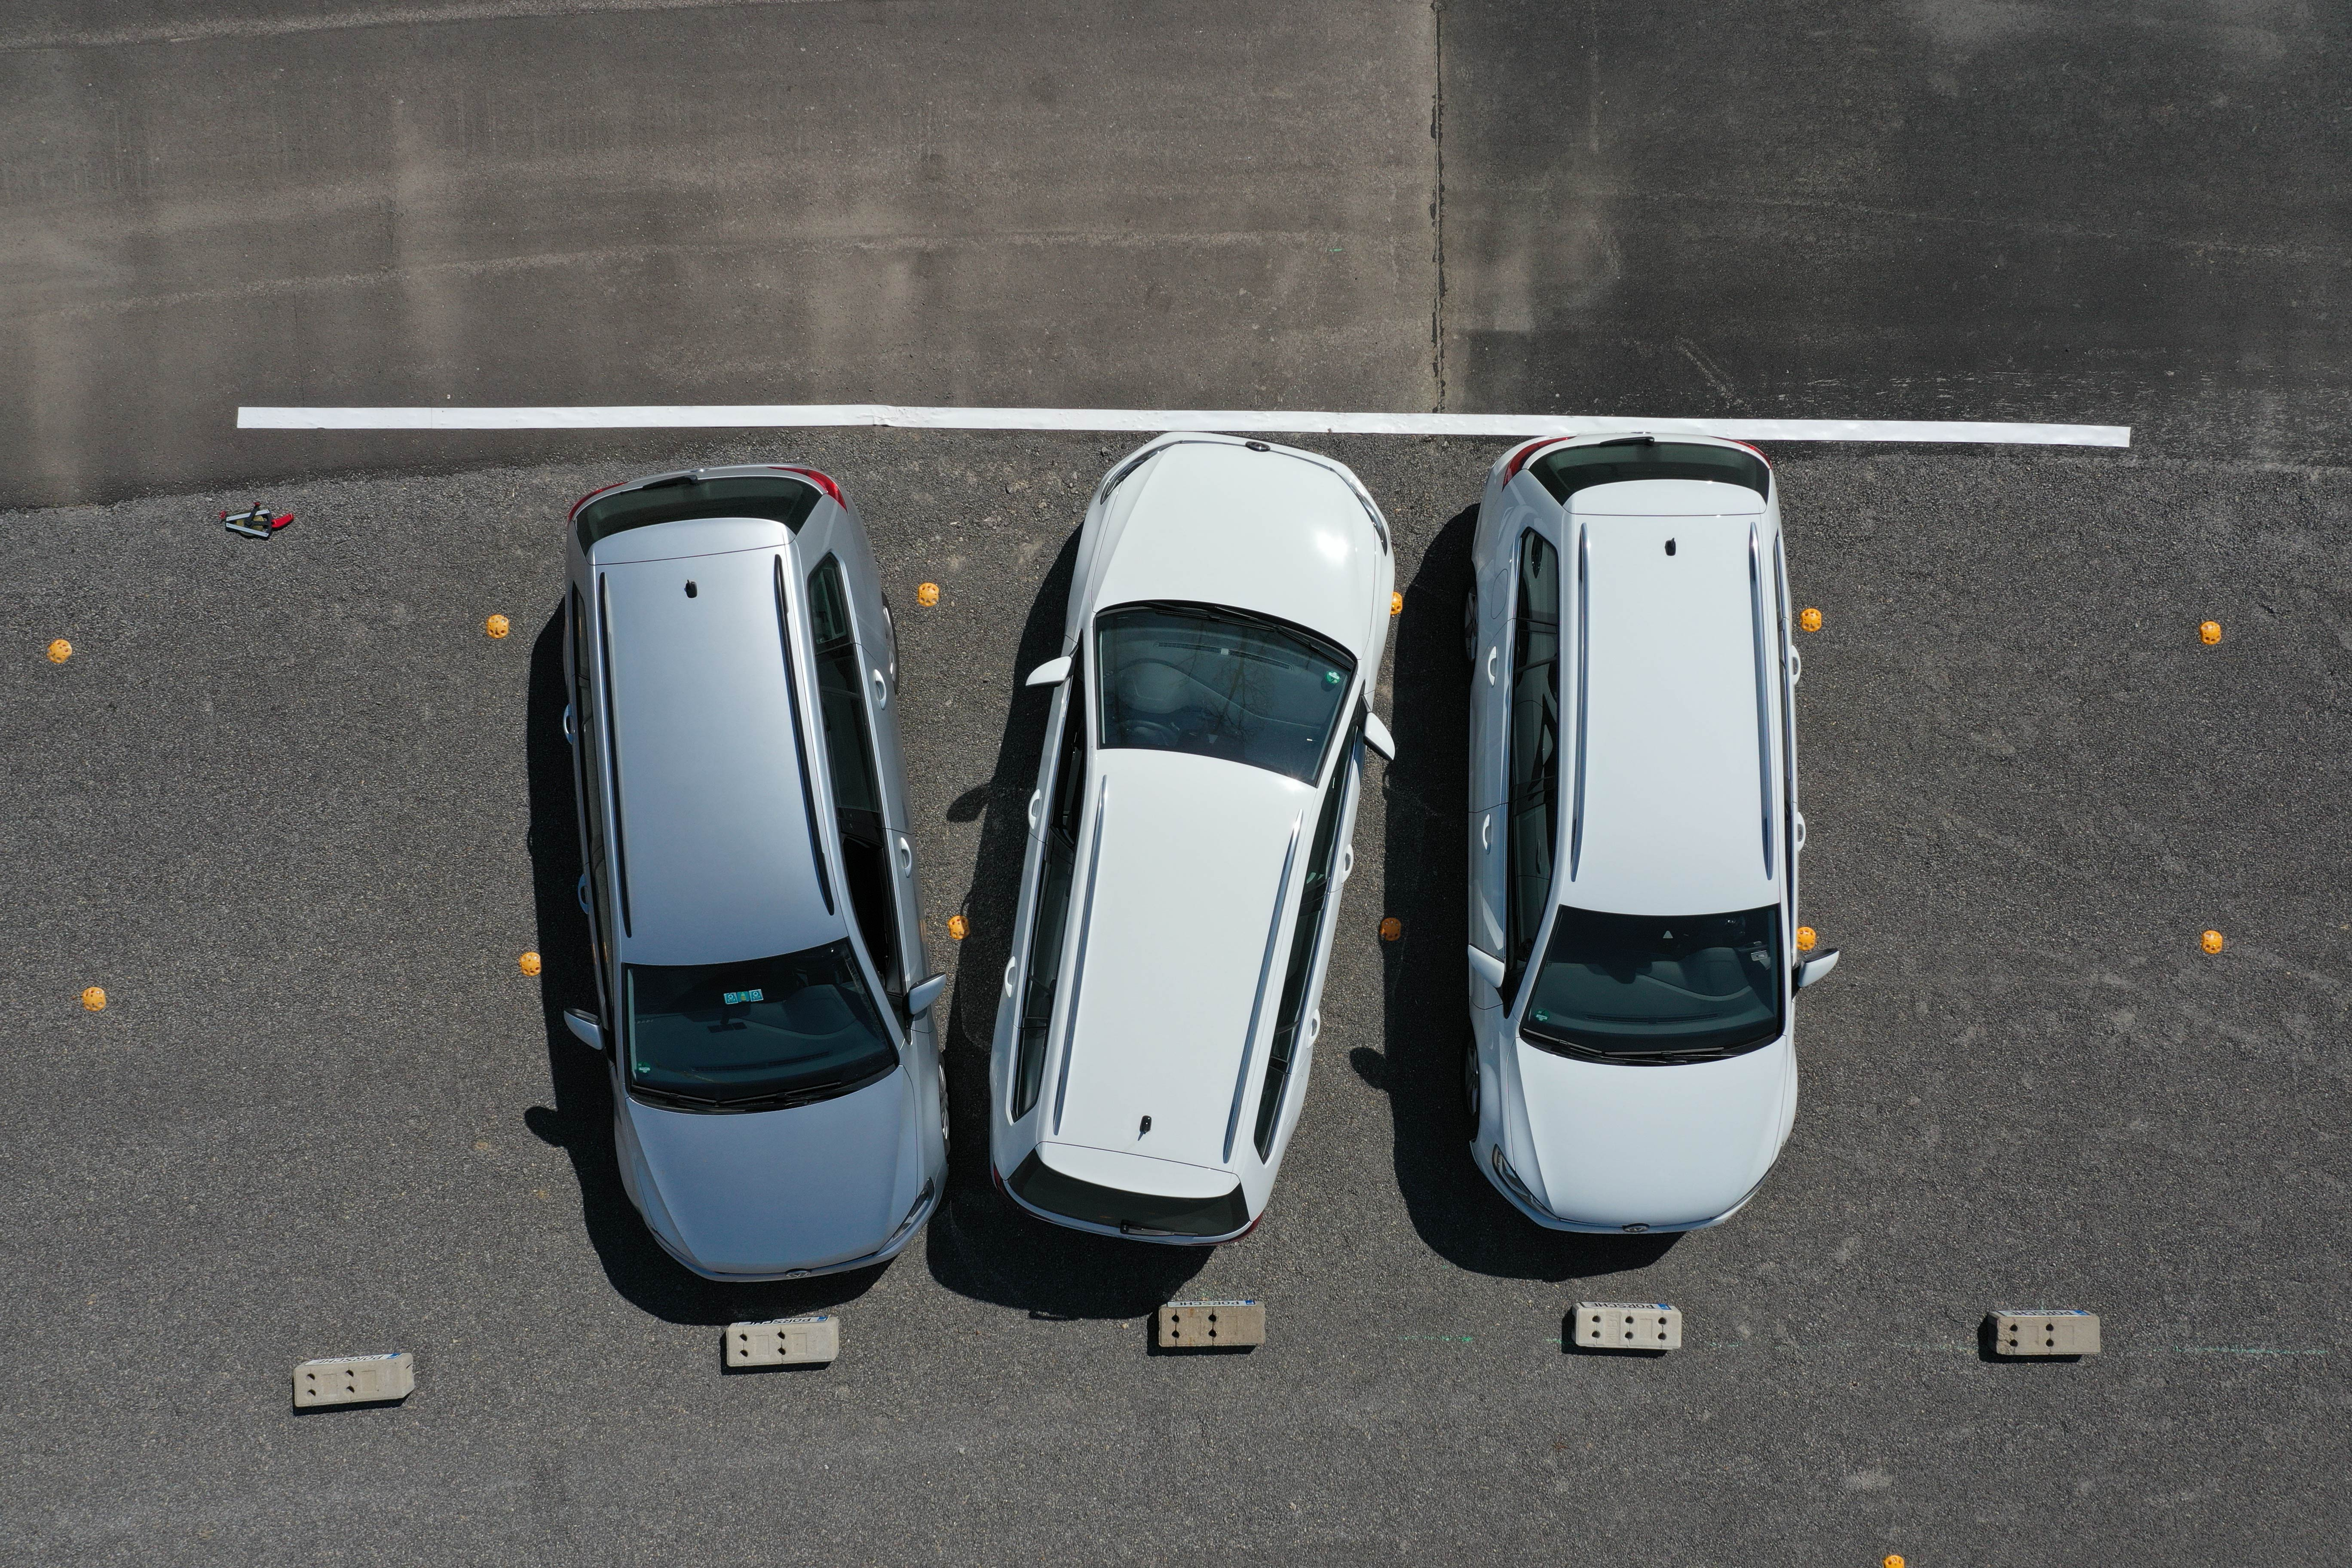Car: (975, 429, 1407, 1274), (558, 458, 945, 1323), (1459, 427, 1846, 1258)
LaneMark: (227, 380, 2163, 455)
